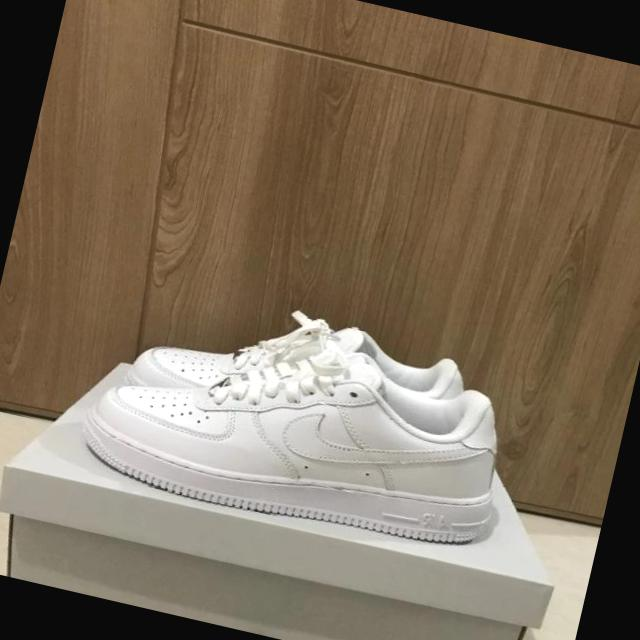nike_original_airforce: (65, 296, 522, 567), (118, 275, 468, 458)
